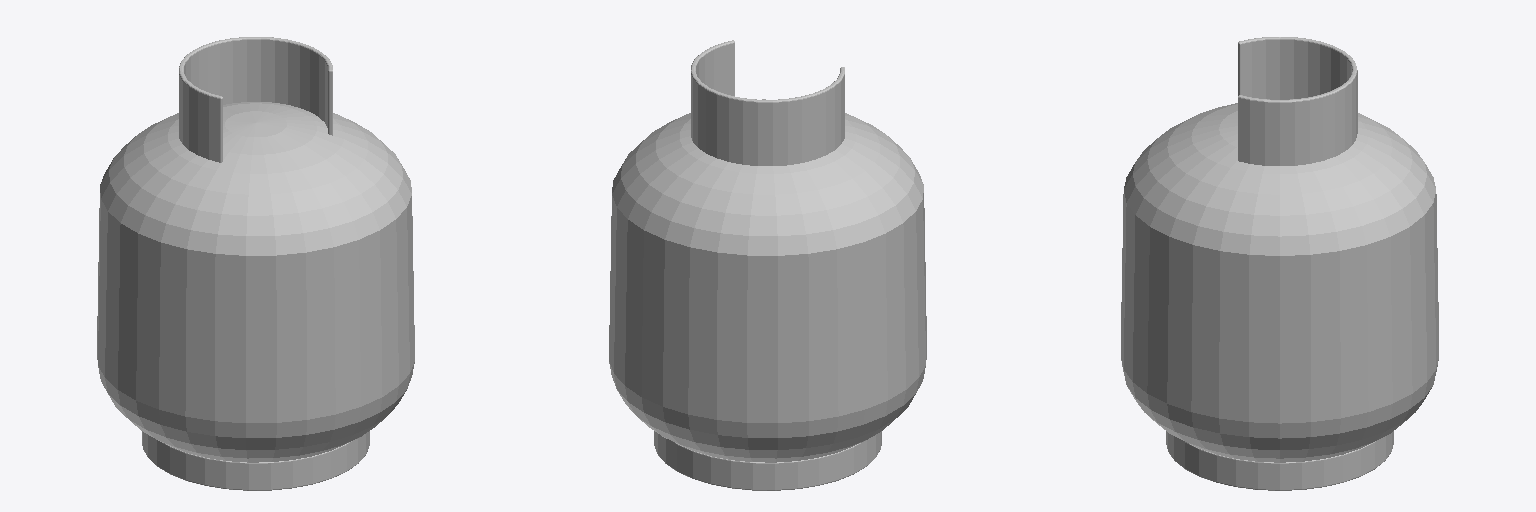
File: tank model final.obj
The picture shows the model from 3 angles: view 1: azimuth 30°, elevation 25°; view 2: azimuth 150°, elevation 25°; view 3: azimuth 270°, elevation 25°; orthographic projection.
Parts seen in each view (by area): view 1: Bottle.001; view 2: Bottle.001; view 3: Bottle.001.
Part boxes in pixels (x1,y1,x2,y2): Bottle.001: (97, 37, 414, 490); Bottle.001: (609, 40, 926, 490); Bottle.001: (1121, 37, 1438, 490).
Size of the model in its own units: 2 by 2.59 by 2.